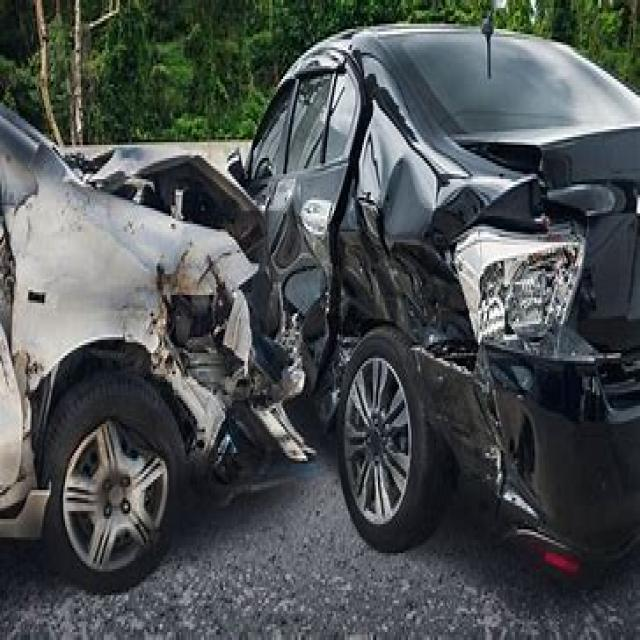Accident: (47, 40, 499, 569)
